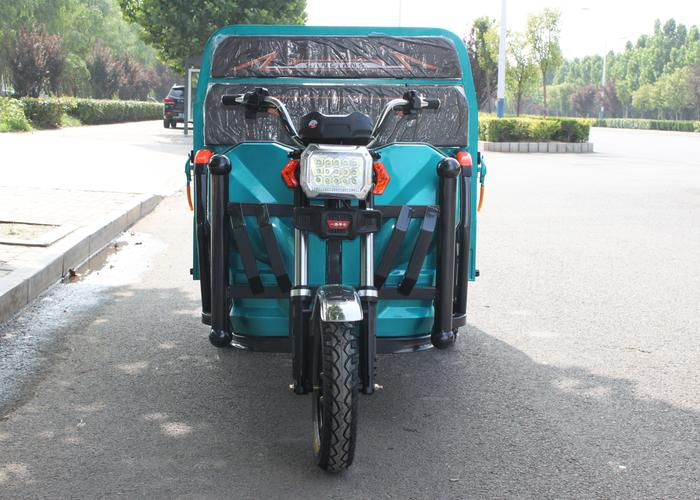empty: (160, 6, 470, 455)
